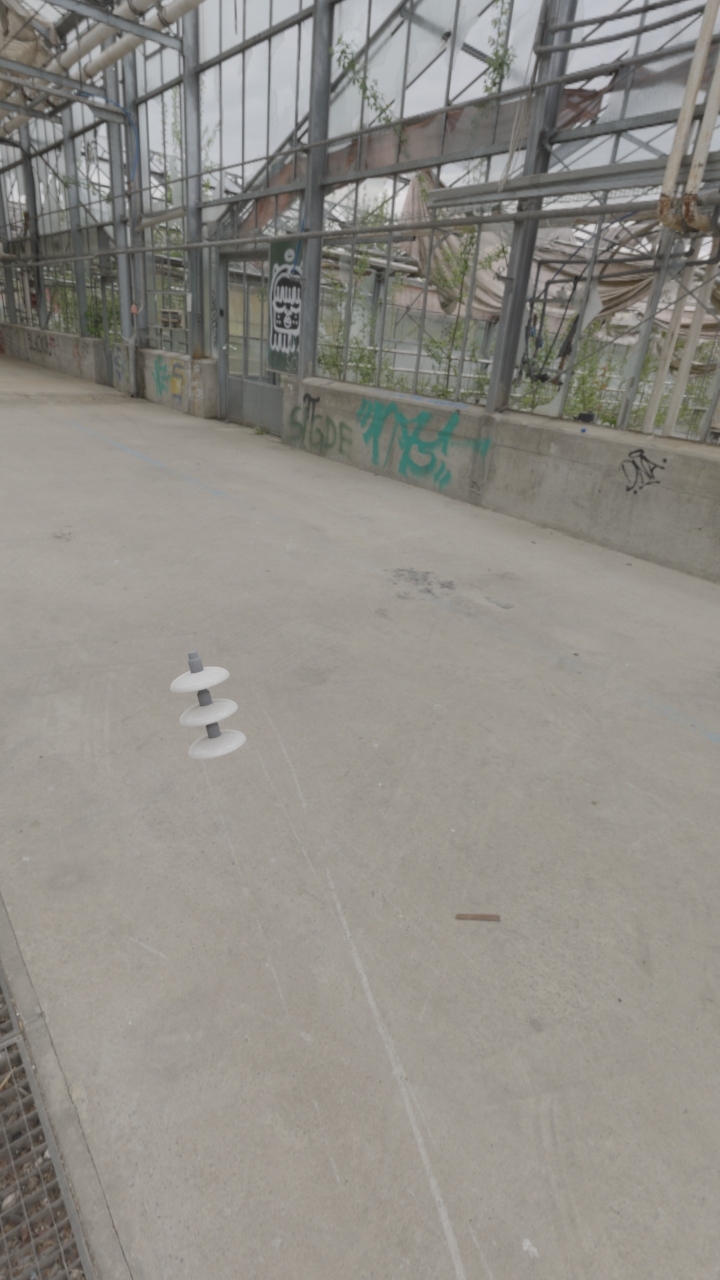ceramicinsulators: (171, 650, 245, 760)
